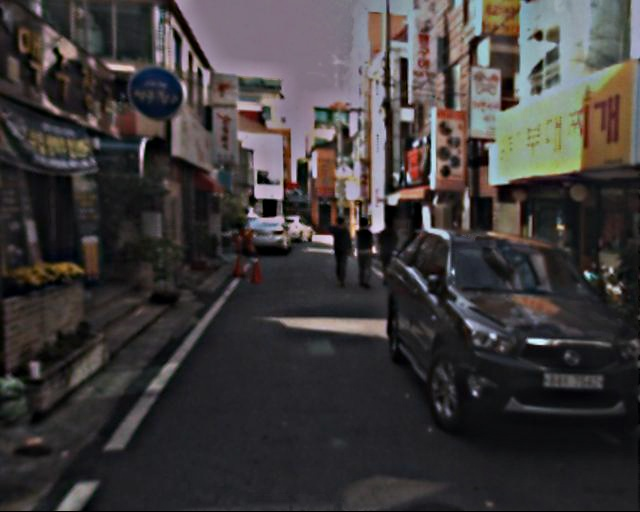person: (348, 215, 379, 290), (325, 214, 355, 288), (372, 217, 402, 290)
